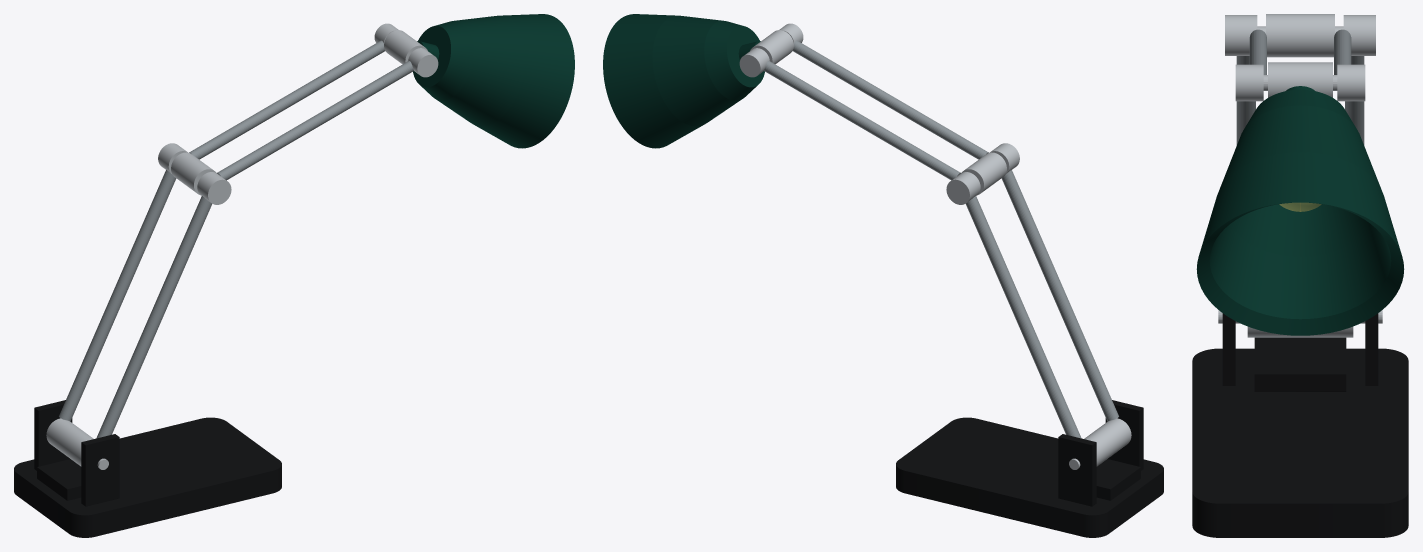
The model's file is sand-desk-lamp.glb.
3 views of the same model, side by side, from view 1: azimuth 30°, elevation 25°; view 2: azimuth 150°, elevation 25°; view 3: azimuth 270°, elevation 25° (orthographic). The views are drawn at different scales.
Visible parts, largest first — view 1: weighted_base.001, shade_shell.001, lower_rod_1.001, lower_rod_0.001, upper_rod_0.001, upper_rod_1.001, base_yoke_0.001, base_yoke_1.001, pedestal_block.001, lower_hinge_barrel.001, upper_hinge_barrel.001, lower_elbow_knuckle_0.001 (+1 smaller); view 2: weighted_base.001, shade_shell.001, lower_rod_0.001, lower_rod_1.001, upper_rod_1.001, upper_rod_0.001, base_yoke_1.001, base_yoke_0.001, pedestal_block.001, lower_hinge_barrel.001, upper_hinge_barrel.001, lower_elbow_knuckle_1.001 (+1 smaller); view 3: shade_shell.001, weighted_base.001, pedestal_block.001, upper_hinge_barrel.001, shade_hinge_barrel.001, lower_elbow_knuckle_0.001, lower_elbow_knuckle_1.001, upper_wrist_knuckle_0.001, upper_wrist_knuckle_1.001, base_yoke_0.001, base_yoke_1.001, lower_rod_0.001 (+5 smaller).
Part boxes in pixels (left/top/right/bottom): weighted_base.001: left=14, top=417, right=281, bottom=537; shade_shell.001: left=413, top=14, right=574, bottom=148; lower_rod_1.001: left=59, top=170, right=176, bottom=421; lower_rod_0.001: left=96, top=196, right=211, bottom=438; upper_rod_0.001: left=217, top=61, right=413, bottom=180; upper_rod_1.001: left=189, top=40, right=384, bottom=159; base_yoke_0.001: left=81, top=434, right=119, bottom=506; base_yoke_1.001: left=34, top=400, right=72, bottom=470; pedestal_block.001: left=37, top=459, right=81, bottom=500; lower_hinge_barrel.001: left=46, top=418, right=93, bottom=466; upper_hinge_barrel.001: left=171, top=152, right=216, bottom=195; lower_elbow_knuckle_0.001: left=197, top=172, right=231, bottom=204; weighted_base.001: left=896, top=417, right=1163, bottom=537; shade_shell.001: left=603, top=14, right=764, bottom=148; lower_rod_0.001: left=1001, top=170, right=1118, bottom=421; lower_rod_1.001: left=966, top=196, right=1081, bottom=438; upper_rod_1.001: left=764, top=61, right=960, bottom=180; upper_rod_0.001: left=793, top=40, right=988, bottom=159; base_yoke_1.001: left=1058, top=434, right=1096, bottom=506; base_yoke_0.001: left=1105, top=400, right=1143, bottom=470; pedestal_block.001: left=1096, top=459, right=1140, bottom=500; lower_hinge_barrel.001: left=1084, top=418, right=1131, bottom=466; upper_hinge_barrel.001: left=961, top=152, right=1006, bottom=195; lower_elbow_knuckle_1.001: left=946, top=172, right=980, bottom=204; shade_shell.001: left=1196, top=89, right=1404, bottom=335; weighted_base.001: left=1192, top=348, right=1408, bottom=537; pedestal_block.001: left=1254, top=337, right=1346, bottom=391; upper_hinge_barrel.001: left=1266, top=14, right=1334, bottom=57; shade_hinge_barrel.001: left=1268, top=62, right=1332, bottom=97; lower_elbow_knuckle_0.001: left=1225, top=15, right=1257, bottom=55; lower_elbow_knuckle_1.001: left=1343, top=15, right=1375, bottom=55; upper_wrist_knuckle_0.001: left=1235, top=64, right=1263, bottom=101; upper_wrist_knuckle_1.001: left=1337, top=64, right=1365, bottom=101; base_yoke_0.001: left=1222, top=313, right=1235, bottom=385; base_yoke_1.001: left=1365, top=313, right=1378, bottom=385; lower_rod_0.001: left=1236, top=56, right=1255, bottom=145.
Size of the model in its own units: 0.5743 by 0.42 by 0.138.
